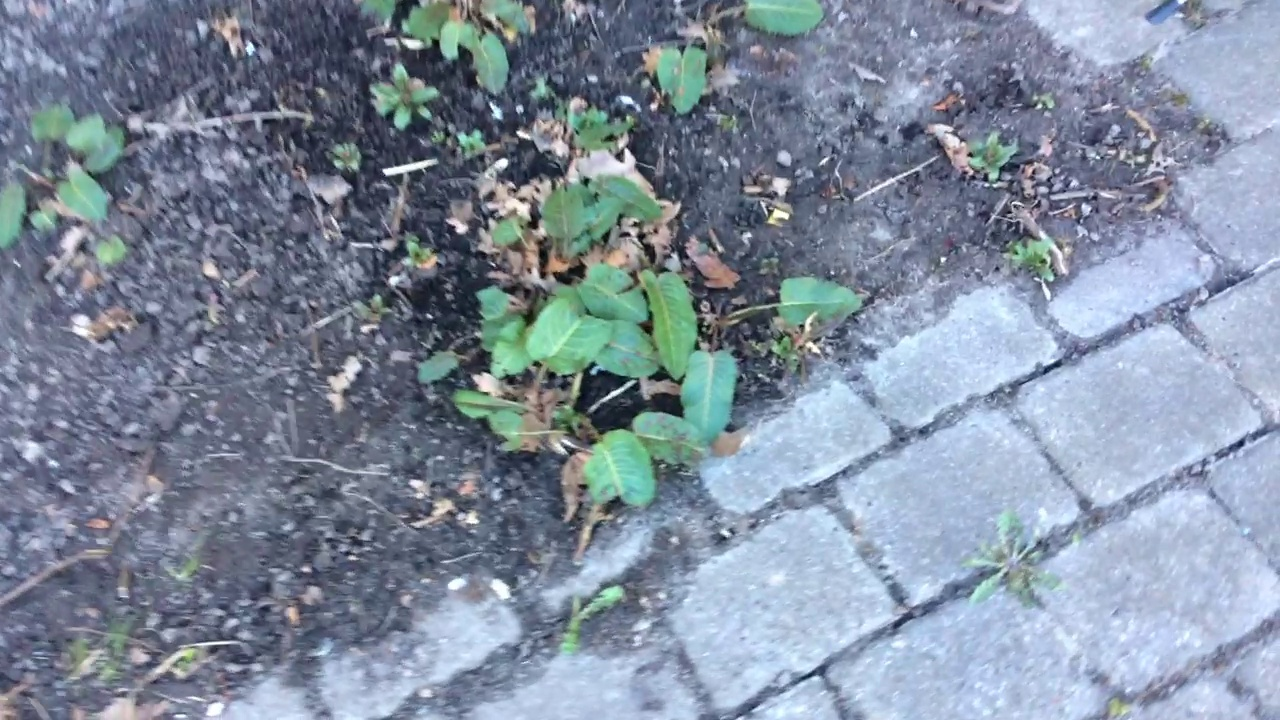rumex: (1, 94, 133, 268)
rumexw: (461, 171, 865, 511), (653, 1, 830, 121), (399, 1, 533, 100)
